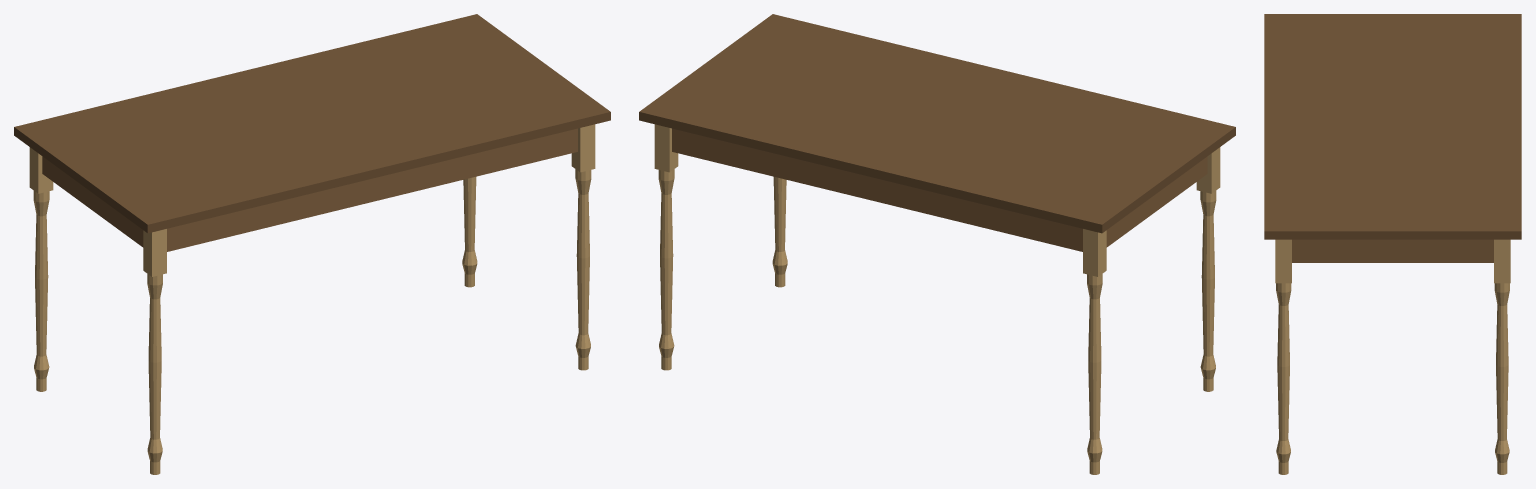
Rendered from FET-DSK-wide.glb.
3 views of the same model, side by side, from view 1: azimuth 30°, elevation 25°; view 2: azimuth 150°, elevation 25°; view 3: azimuth 270°, elevation 25° (orthographic). The views are drawn at different scales.
Parts seen in each view (by area): view 1: top:pbr, apron-f:pbr, leg-fl:pbr, leg-fr:pbr, leg-bl:pbr, apron-l:pbr, leg-br:pbr; view 2: top:pbr, apron-b:pbr, leg-bl:pbr, leg-br:pbr, leg-fl:pbr, apron-l:pbr, leg-fr:pbr; view 3: top:pbr, apron-r:pbr, leg-fr:pbr, leg-br:pbr.
Part boxes in pixels (<box>): top:pbr: <box>14,14,610,233</box>; apron-f:pbr: <box>167,128,577,251</box>; leg-fl:pbr: <box>143,229,166,474</box>; leg-fr:pbr: <box>571,124,595,370</box>; leg-bl:pbr: <box>29,147,53,391</box>; apron-l:pbr: <box>42,156,143,247</box>; leg-br:pbr: <box>462,177,477,287</box>; top:pbr: <box>639,14,1235,233</box>; apron-b:pbr: <box>672,128,1082,251</box>; leg-bl:pbr: <box>1083,229,1106,474</box>; leg-br:pbr: <box>654,124,678,370</box>; leg-fl:pbr: <box>1196,147,1220,391</box>; apron-l:pbr: <box>1106,156,1207,247</box>; leg-fr:pbr: <box>772,177,787,287</box>; top:pbr: <box>1264,14,1521,239</box>; apron-r:pbr: <box>1292,239,1493,262</box>; leg-fr:pbr: <box>1275,239,1291,474</box>; leg-br:pbr: <box>1494,239,1510,474</box>.
Size of the model in its own units: 1.4 by 0.75 by 0.7.
